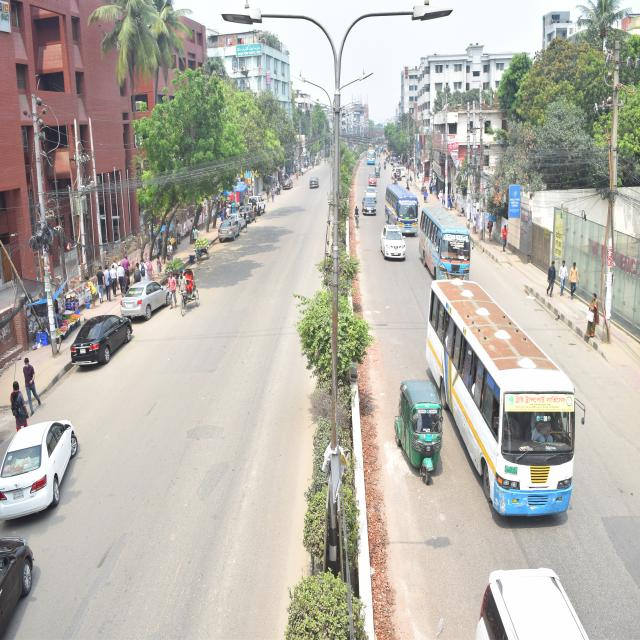bus: (417, 270, 598, 526), (416, 204, 478, 284), (384, 183, 422, 234), (364, 148, 378, 166)
car: (0, 411, 97, 532), (61, 309, 133, 368), (117, 278, 179, 326), (376, 222, 412, 262), (213, 217, 246, 240), (245, 197, 272, 216), (306, 172, 327, 192), (362, 196, 380, 213), (280, 175, 300, 190), (368, 174, 378, 187)
